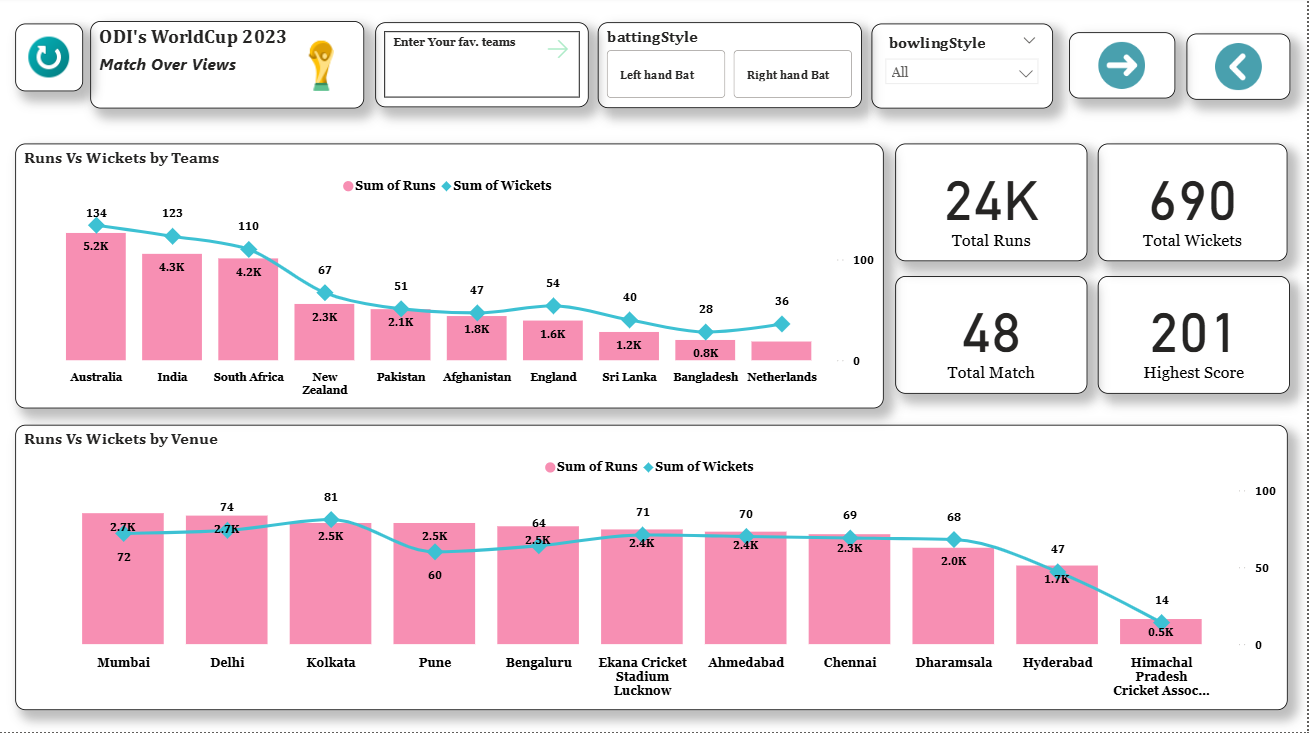

What the dashboard file says about the page in this screenshot:
{"tool":"powerbi","page":{"name":"OverViews","canvas":[1280,720],"ordinal":1},"visuals":[{"type":"lineClusteredColumnComboChart","title":"Runs Vs Wickets by Teams","fields":{"Category":["match_schedule_results.Winner"],"Y":["Sum(batting_summary.Runs)"],"Y2":["Sum(bowling_summary.Wickets)"]},"box":[15.9,144.3,849.9,259.2],"z":0},{"type":"lineClusteredColumnComboChart","title":"Runs Vs Wickets by Venue","fields":{"Category":["matches.Venue"],"Y2":["Sum(bowling_summary.Wickets)"],"Y":["Sum(batting_summary.Runs)"]},"box":[15.9,419.4,1244.8,278.8],"z":1000},{"type":"card","fields":{"Values":["Sum(batting_summary.Runs)"]},"box":[876.8,144.3,188.3,114.9],"z":2000},{"type":"card","fields":{"Values":["Sum(bowling_summary.Wickets)"]},"box":[1074.9,144.3,185.9,114.9],"z":3000},{"type":"card","fields":{"Values":["CountNonNull(matches.Match_no)"]},"box":[876.8,273.9,188.3,114.9],"z":4000},{"type":"card","fields":{"Values":["Max(batting_summary.Runs)"]},"box":[1074.9,273.9,188.3,114.9],"z":5000},{"type":"textbox","title":"ODI''s WorldCup 2023","box":[89.3,24.5,267.8,85.6],"z":6000},{"type":"textSlicer","fields":{"Values":["matches.Winner"]},"box":[368.1,25.7,209.1,83.2],"z":7000},{"type":"advancedSlicerVisual","fields":{"Values":["world_cup_players_info.battingStyle"]},"box":[585.7,25.7,258,84.4],"z":8000},{"type":"slicer","fields":{"Values":["world_cup_players_info.bowlingStyle"]},"box":[853.5,26.9,177.3,83.2],"z":9000},{"type":"image","box":[1046.7,35.5,103.9,64.8],"z":10000},{"type":"image","box":[1161.7,36.7,101.5,64.8],"z":11000},{"type":"image","box":[15.9,26.9,66,66],"z":12000},{"type":"image","box":[283.7,36.7,63.6,63.6],"z":13000}]}

Visuals, with their boxes in screenshot pixels (x1, y1, x2, y2), scaled from the page's 1280x720 canvas onto the 1310x733 screenshot:
"Runs Vs Wickets by Teams" lineClusteredColumnComboChart: pyautogui.locateOnScreen(16, 147, 886, 411)
"Runs Vs Wickets by Venue" lineClusteredColumnComboChart: pyautogui.locateOnScreen(16, 427, 1290, 711)
card - Sum(batting_summary.Runs): pyautogui.locateOnScreen(897, 147, 1090, 264)
card - Sum(bowling_summary.Wickets): pyautogui.locateOnScreen(1100, 147, 1290, 264)
card - CountNonNull(matches.Match_no): pyautogui.locateOnScreen(897, 279, 1090, 396)
card - Max(batting_summary.Runs): pyautogui.locateOnScreen(1100, 279, 1293, 396)
"ODI''s WorldCup 2023" textbox: pyautogui.locateOnScreen(91, 25, 365, 112)
textSlicer - matches.Winner: pyautogui.locateOnScreen(377, 26, 591, 111)
advancedSlicerVisual - world_cup_players_info.battingStyle: pyautogui.locateOnScreen(599, 26, 863, 112)
slicer - world_cup_players_info.bowlingStyle: pyautogui.locateOnScreen(874, 27, 1055, 112)
image: pyautogui.locateOnScreen(1071, 36, 1178, 102)
image: pyautogui.locateOnScreen(1189, 37, 1293, 103)
image: pyautogui.locateOnScreen(16, 27, 84, 95)
image: pyautogui.locateOnScreen(290, 37, 355, 102)
